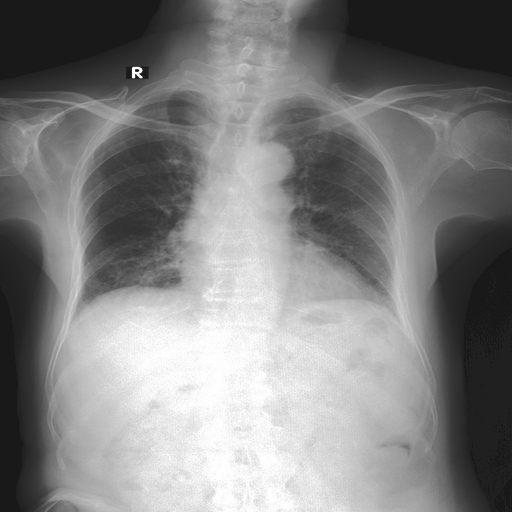Cardiomegaly: (87, 242, 183, 289), (336, 204, 383, 234)
Consolidation: (231, 141, 298, 182)
Nodule/Mass: (178, 253, 381, 302)
Other lesion: (87, 242, 183, 289), (336, 204, 383, 234)
